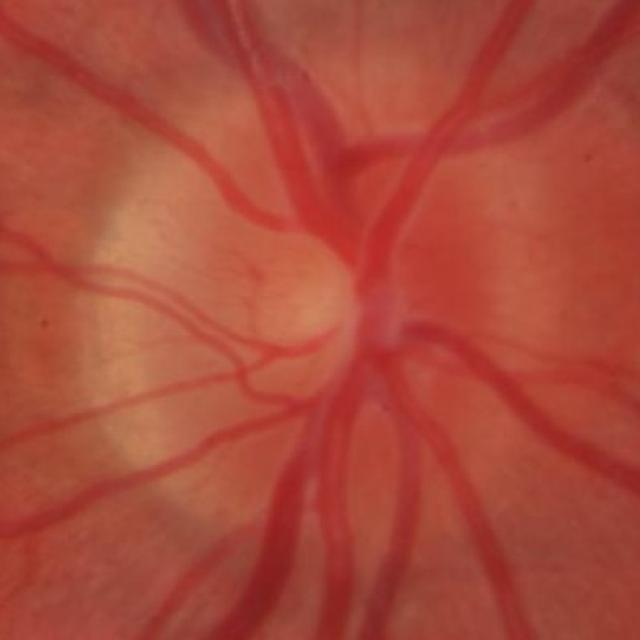OC: (250, 231, 406, 385)
OD: (84, 72, 606, 537)
